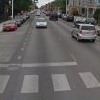crosswalk: (0, 70, 99, 94)
